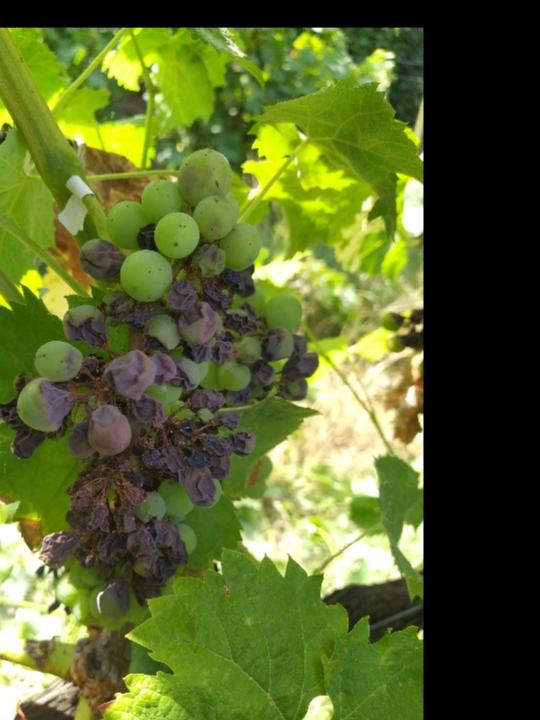grape: (0, 148, 321, 632)
